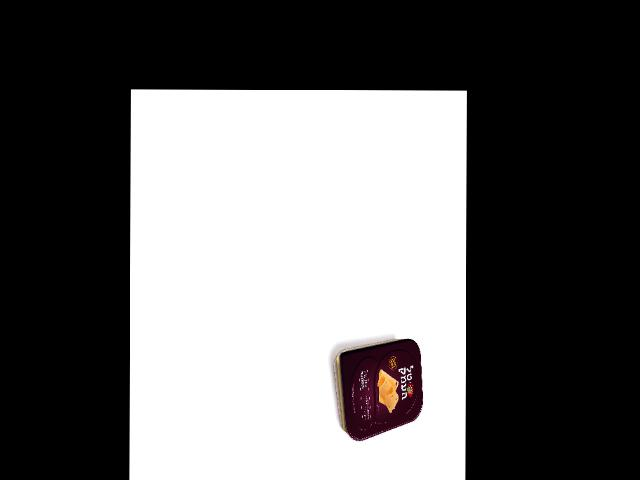cheese: (334, 338, 424, 441)
